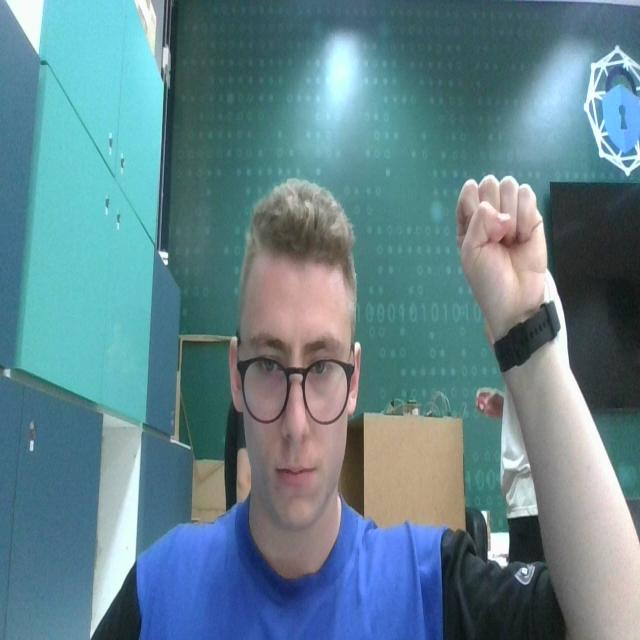S: (453, 172, 552, 326)
